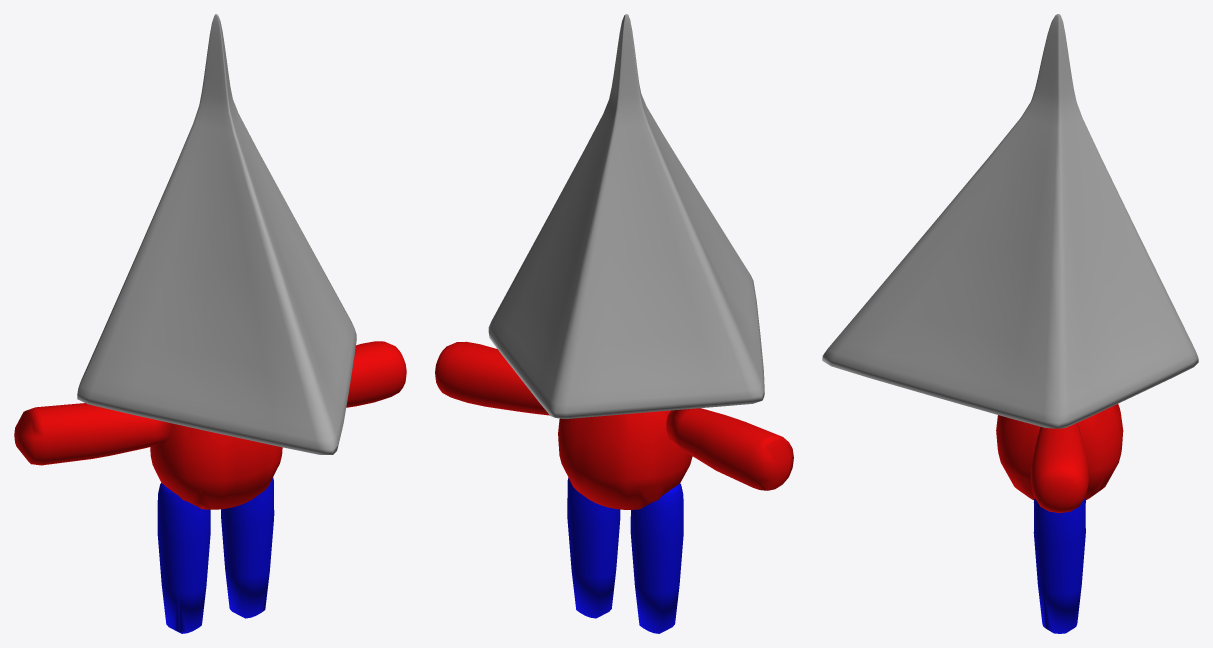
The model's file is NPC_Pinhead.fbx.
3 renders of one model, left to right at view 1: azimuth 30°, elevation 25°; view 2: azimuth 150°, elevation 25°; view 3: azimuth 270°, elevation 25°, orthographic.
Parts seen in each view (by area): view 1: NPC_pinHeadF; view 2: NPC_pinHeadF; view 3: NPC_pinHeadF.
Part boxes in pixels (x1,y1,x2,y2): NPC_pinHeadF: [14, 14, 406, 633]; NPC_pinHeadF: [435, 14, 793, 633]; NPC_pinHeadF: [822, 14, 1198, 633].
Size of the model in its own units: 68.08 by 108 by 61.38.
